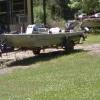Boat: (2, 18, 91, 63)
